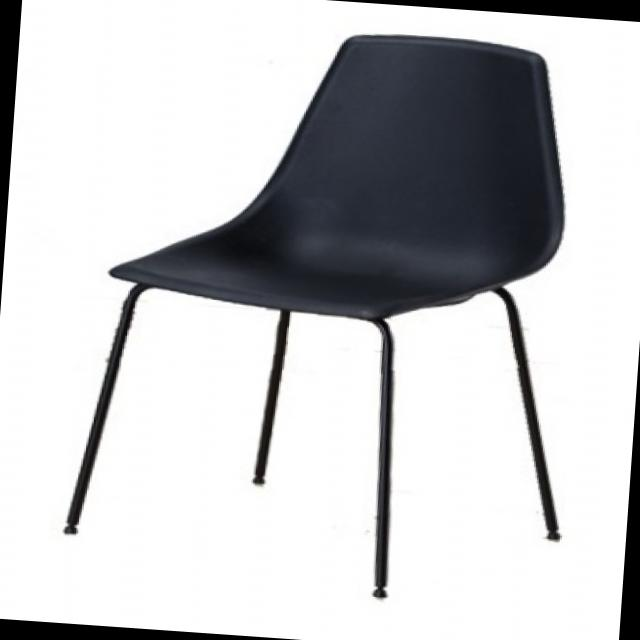Chair: (55, 8, 602, 618)
